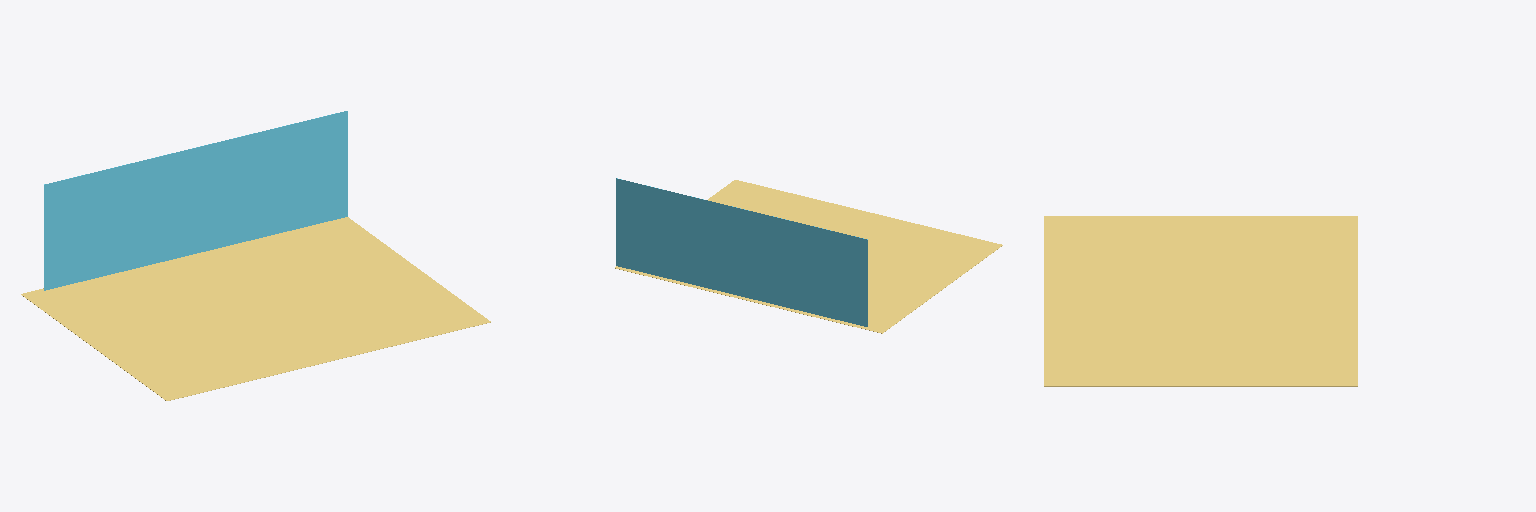
The robot description file, URDF, robot "floor":
<?xml version="1.0"?>
<robot name="floor">
  <link name="obstacle_base">
    <visual>
      <origin xyz="0 0 0"/>
      <geometry>
        <box size="0.001 0.001 0.001"/>
      </geometry>
    </visual>
  </link>

  <joint name="j_floor" type="fixed">
    <parent link="obstacle_base"/>
    <child link="l_floor"/>
    <origin xyz="0 0 0"/>
  </joint>
        
  <link name="l_floor">
    <visual>
      <origin xyz="-3.7 -5 -0.01"/>
      <geometry>
        <box size="6.4 5 0.005"/>
      </geometry>
      <material name="color">
        <color rgba="1 0.9 0.6 1"/>
      </material>
    </visual>
    <collision>
      <origin xyz="-3.7 -5 -0.01"/>
      <geometry>
        <box size="6.4 5 0.005"/>
      </geometry>
    </collision>
  </link>

  <joint name="j_wall" type="fixed">
    <parent link="obstacle_base"/>
    <child link="l_wall"/>
    <origin xyz="0 0 0"/>
  </joint>
        
  <link name="l_wall">
    <visual>
      <origin xyz="-3.5 -2.6 1"/>
      <geometry>
        <box size="6 0.005 2"/>
      </geometry>
      <material name="blue">
        <color rgba="0.5 0.9 1 1"/>
      </material>
    </visual>
    <collision>
      <origin xyz="-3.5 -2.6 1"/>
      <geometry>
        <box size="6 0.005 2"/>
      </geometry>
    </collision>
  </link>
</robot>

--- Facts derived from the render (not from the file) ---
Views: 3 orthographic renders of the robot side by side, from view 1: azimuth 30°, elevation 25°; view 2: azimuth 150°, elevation 25°; view 3: azimuth 270°, elevation 25°.
Model floor with 3 links and 2 joints (2 fixed), rooted at obstacle_base, posed all joints at 0.
Links seen in each view (by area): view 1: l_floor, l_wall; view 2: l_wall, l_floor; view 3: l_floor.
Boxes of the visible links, x1,y1,x2,y2 form: l_floor: [21, 217, 490, 400]; l_wall: [44, 111, 347, 290]; l_wall: [616, 178, 867, 326]; l_floor: [615, 180, 1002, 333]; l_floor: [1044, 216, 1357, 386].
Size in the robot's own frame: 6.9 by 7.5 by 2.01 metres.
Geometry: primitives only (box / cylinder / sphere), no mesh files.